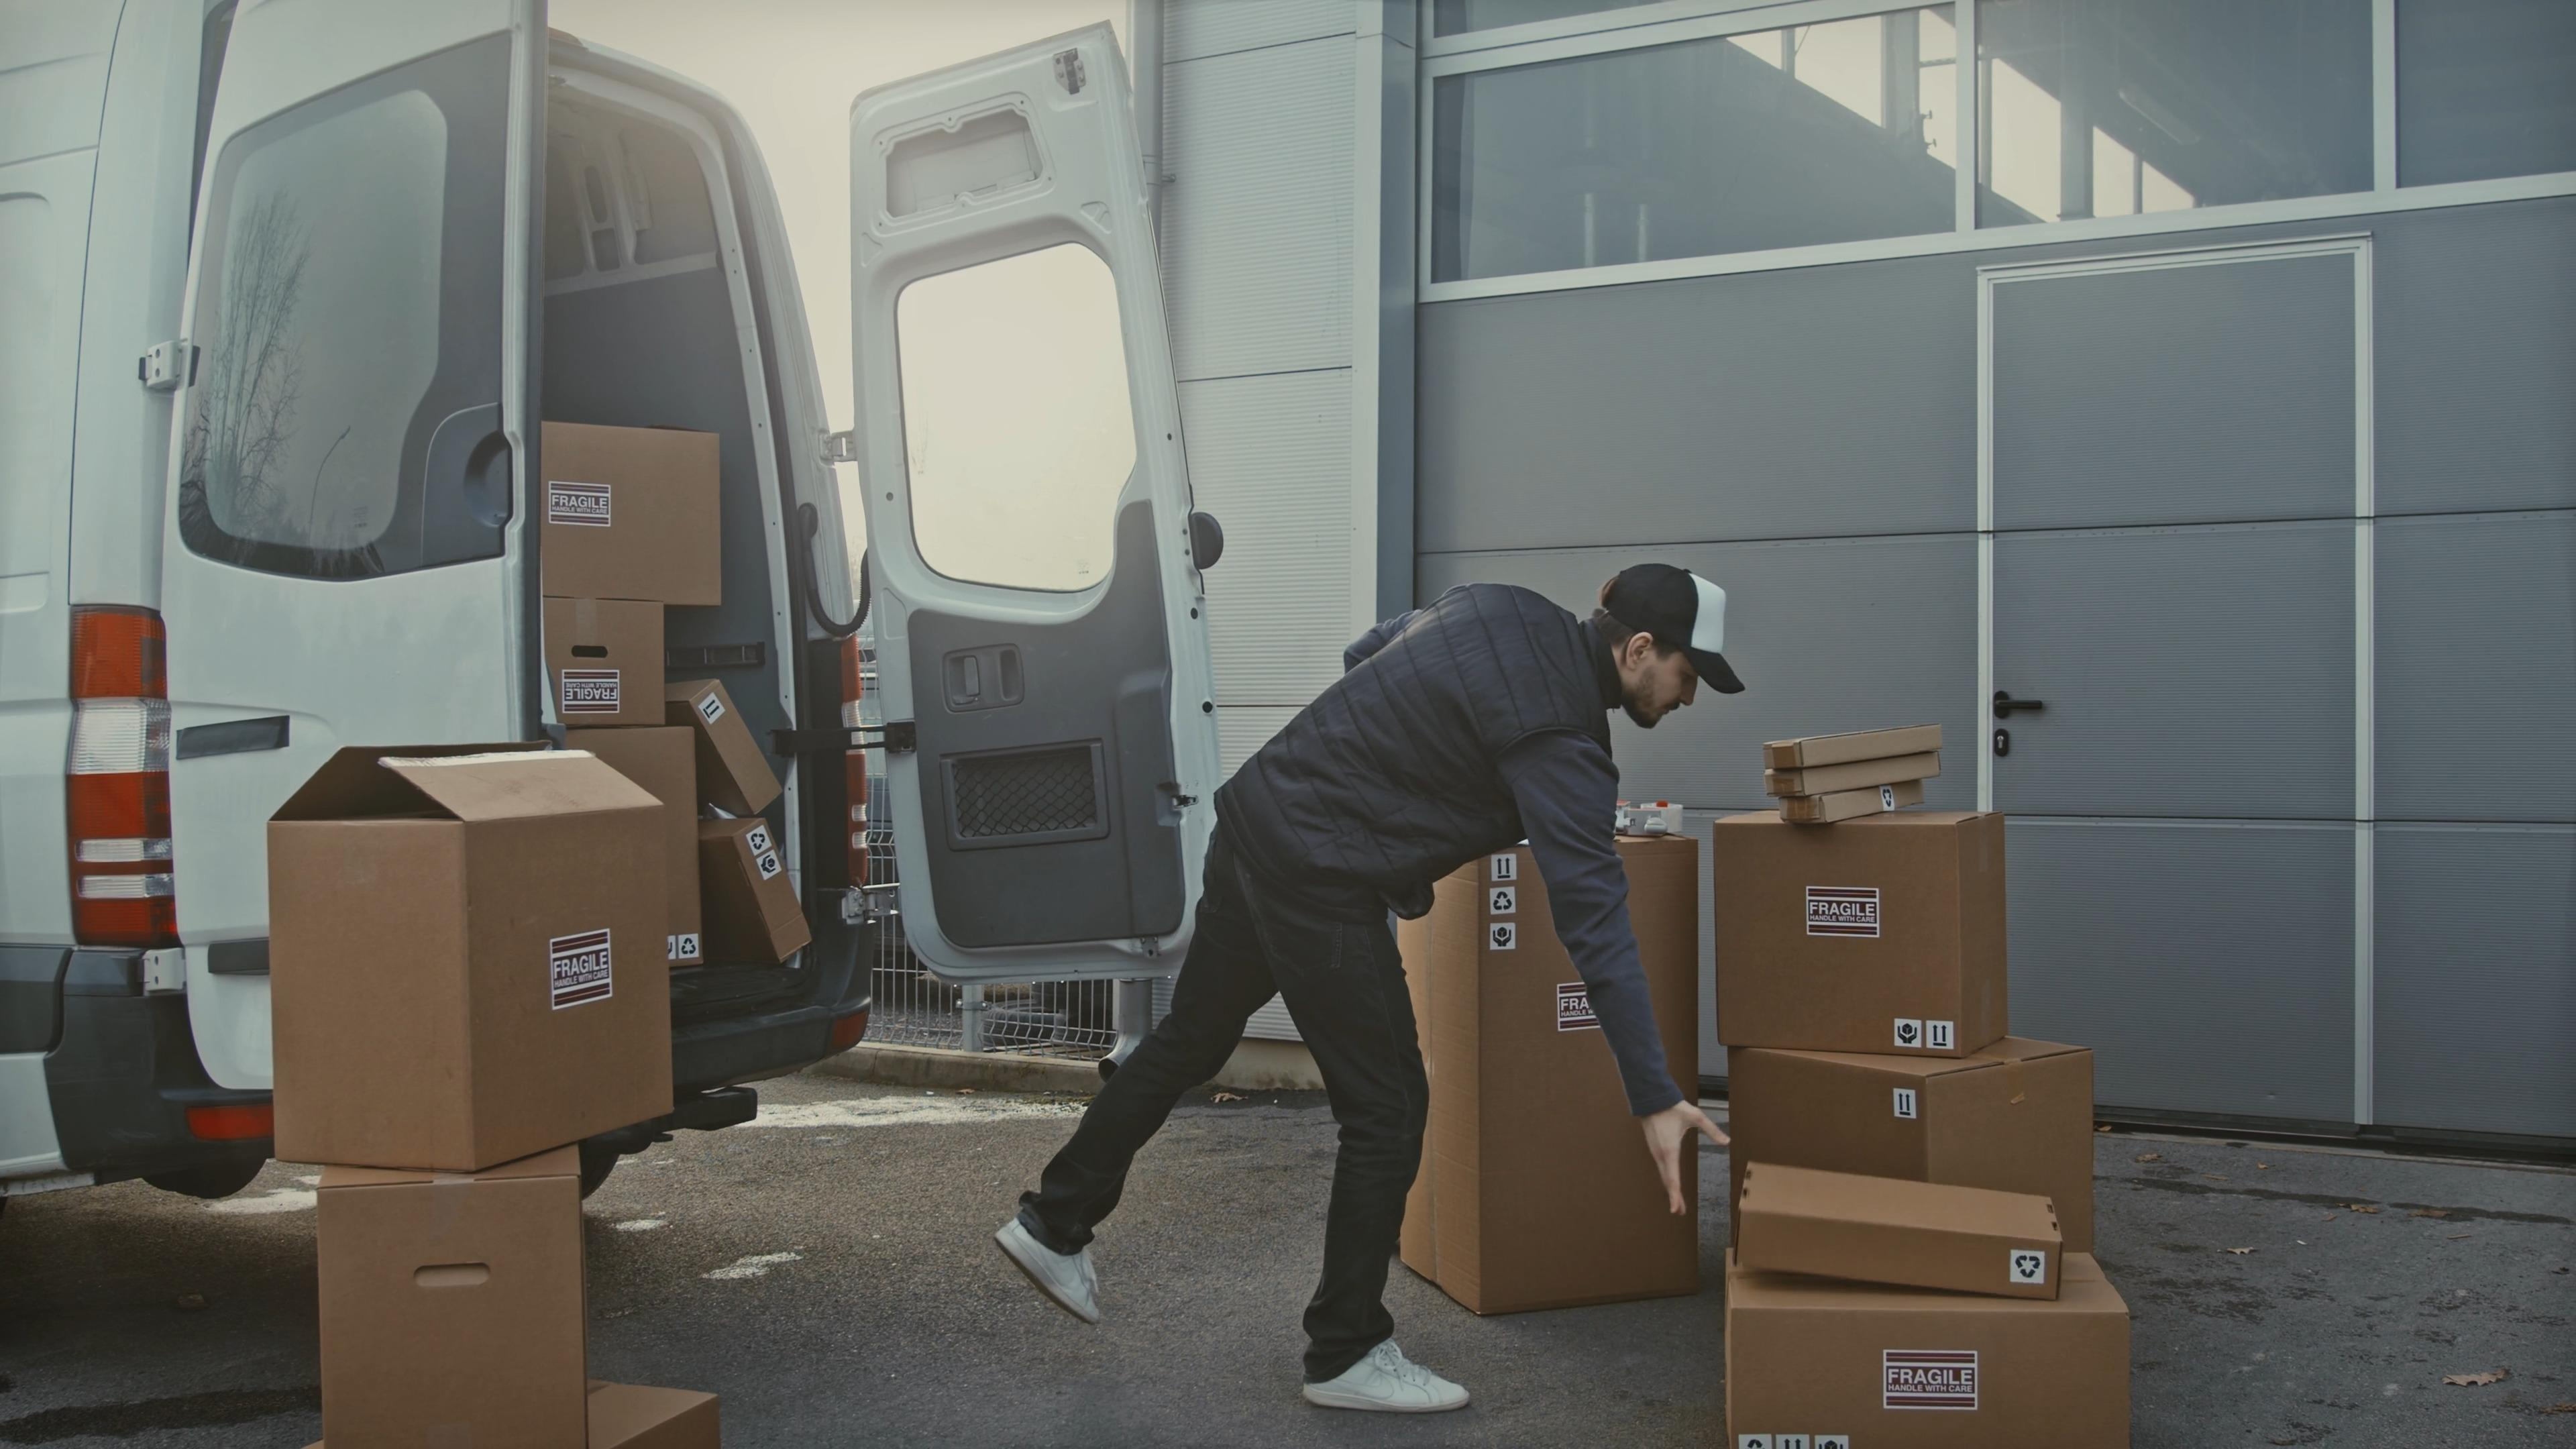-: (262, 736, 686, 1168), (1396, 830, 1697, 1318), (1736, 1033, 2102, 1260), (317, 1164, 589, 1449), (1711, 1269, 2127, 1449), (1714, 801, 2008, 1053), (1725, 1161, 2070, 1293), (531, 414, 734, 607), (545, 605, 667, 722)
